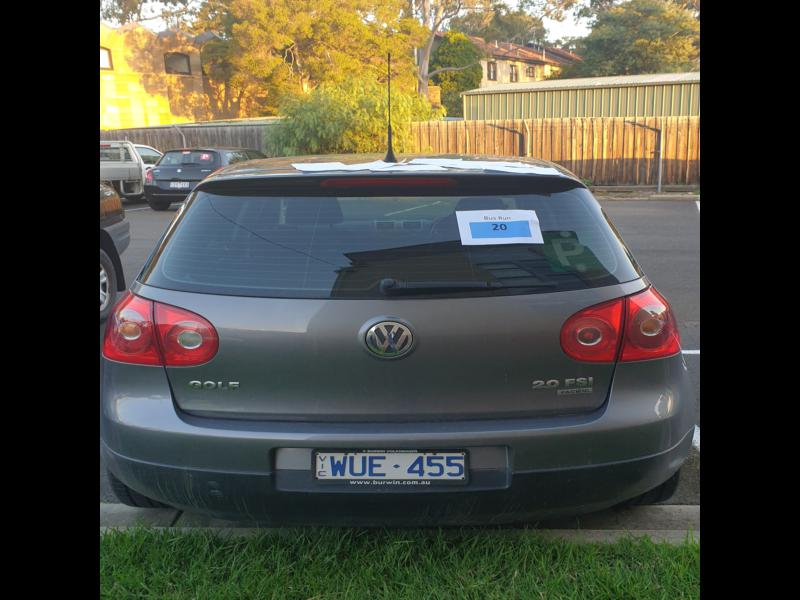BusRun: (470, 220, 530, 237)
PlateNo: (312, 448, 465, 485)
